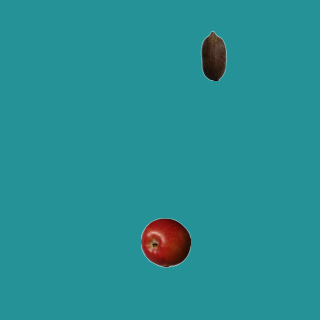Apple Braeburn: (140, 217, 190, 267)
Nut Pecan: (188, 30, 238, 80)
